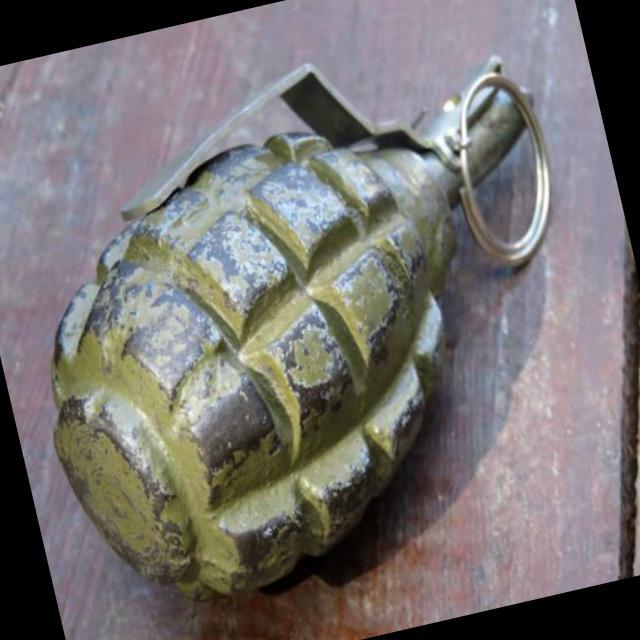grenade: (0, 14, 634, 630)
